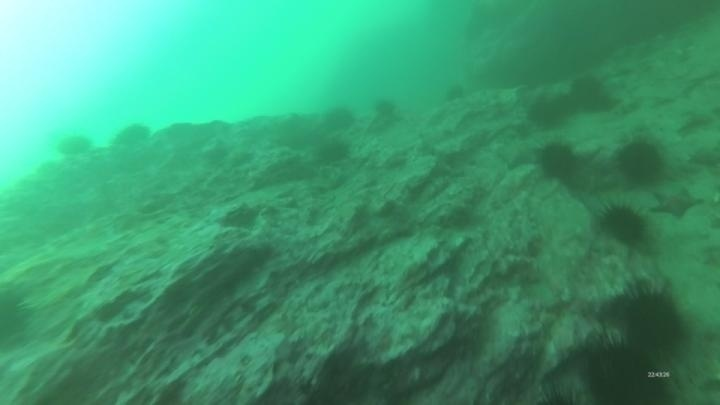echinus: (580, 336, 672, 405), (618, 282, 689, 358), (613, 137, 667, 188), (597, 201, 650, 247), (0, 283, 33, 350), (535, 140, 581, 184), (567, 72, 614, 115), (526, 93, 570, 131), (111, 121, 153, 153), (55, 132, 94, 161), (315, 136, 352, 166), (321, 104, 357, 133), (371, 96, 401, 123)
starfish: (650, 185, 704, 222), (496, 134, 543, 171)
